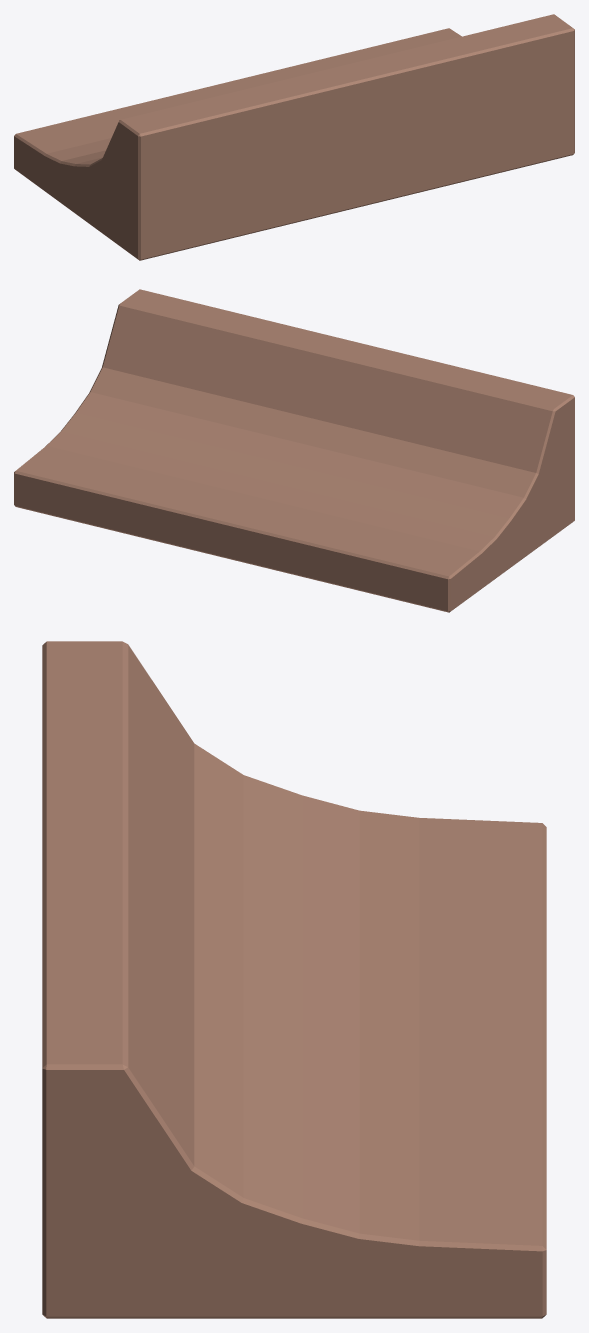
Rendered from mesh_bigRampMod.fbx.
The picture shows the model from 3 angles, top to bottom: view 1: azimuth 30°, elevation 25°; view 2: azimuth 150°, elevation 25°; view 3: azimuth 270°, elevation 25°; orthographic projection. The views are drawn at different scales.
Parts seen in each view (by area): view 1: mesh_bigRampMod; view 2: mesh_bigRampMod; view 3: mesh_bigRampMod.
Boxes of the visible parts, left/top/right/bottom form: mesh_bigRampMod: left=14, top=14, right=574, bottom=260; mesh_bigRampMod: left=14, top=289, right=574, bottom=612; mesh_bigRampMod: left=42, top=641, right=546, bottom=1318.
Size of the model in its own units: 30 by 8.33 by 15.
